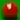red: (0, 0, 20, 20)
